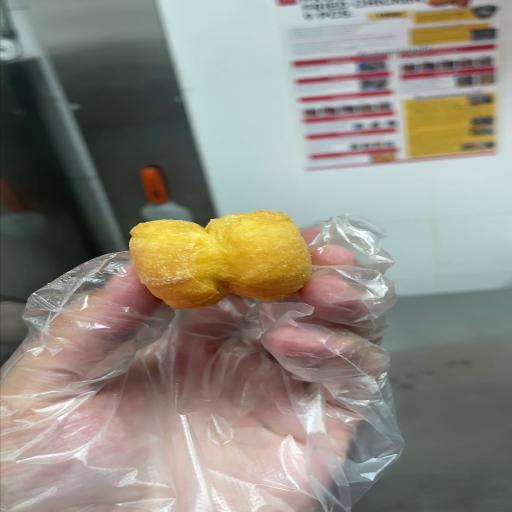brand_golden_good: (129, 211, 311, 309)
